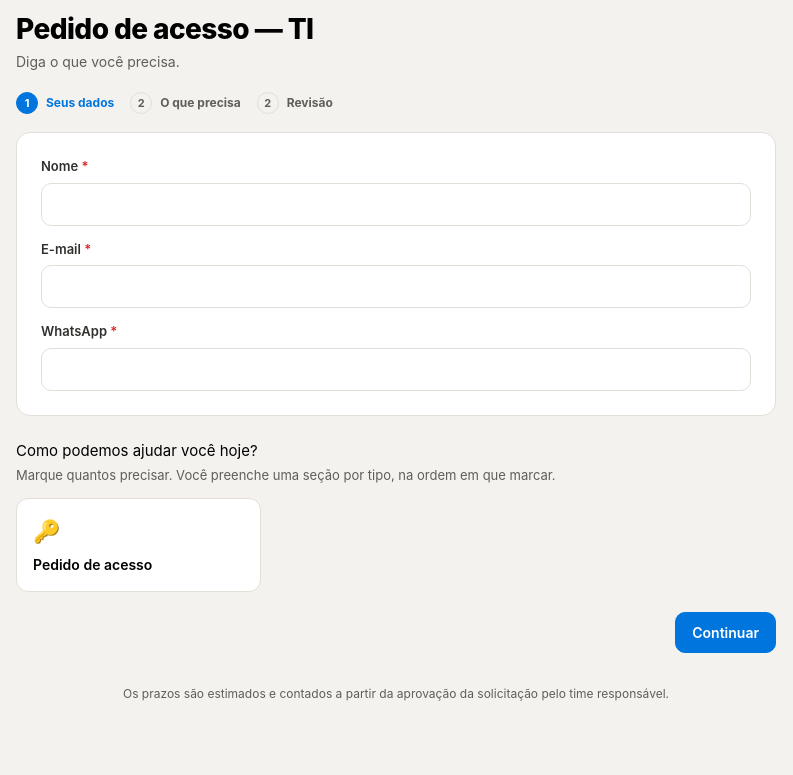
a etapa de identificação, montada de verdade › ⚠️ a mensagem de erro NÃO cobra campo que a tela não desenha
In the field labelled "Nome *": (396, 204) [41,183,751,226], type "Maria"
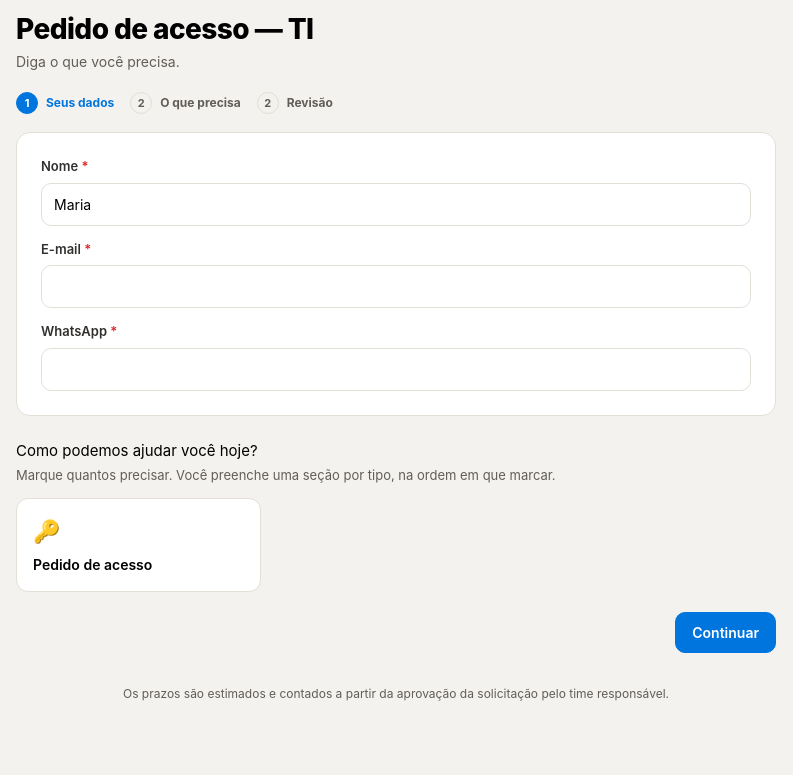
In the field labelled "E-mail *": (396, 287) [41,265,751,308], type "maria@polo.ex"
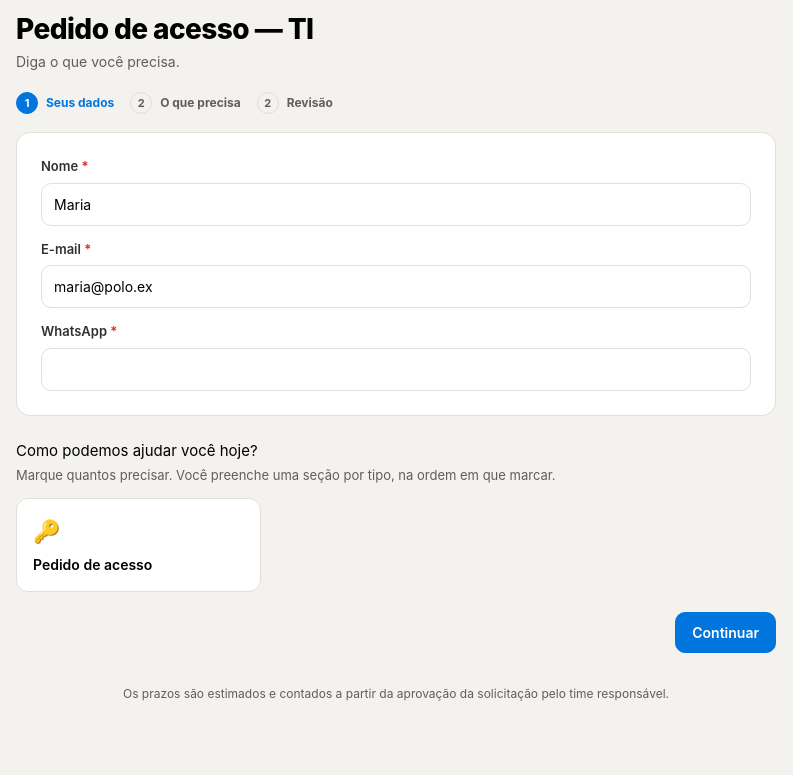
Click the text "Pedido de acesso": (93, 564) [33,554,152,575]
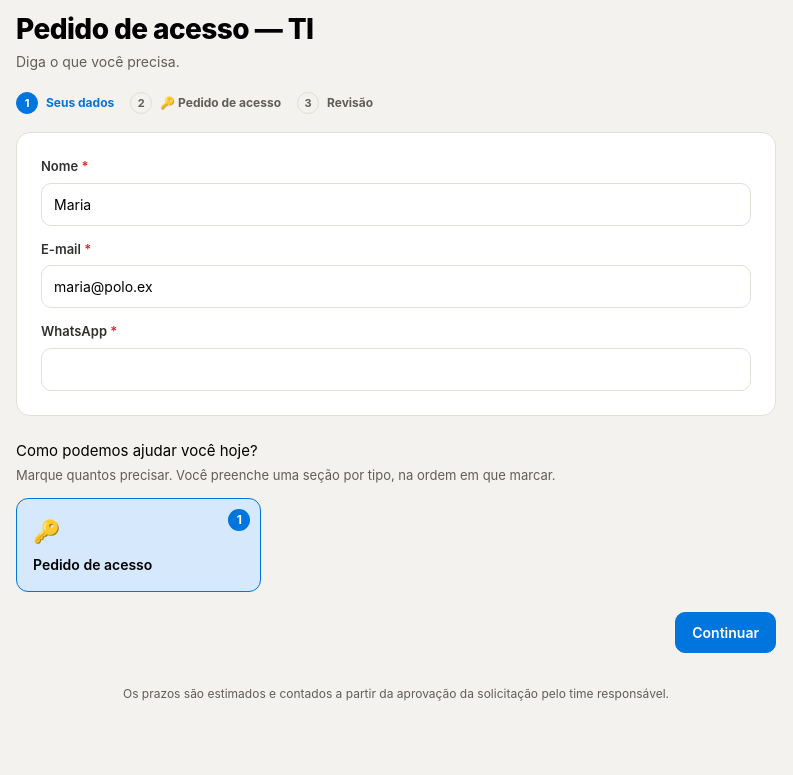
Click the button "Continuar": (726, 632) [675,612,776,653]
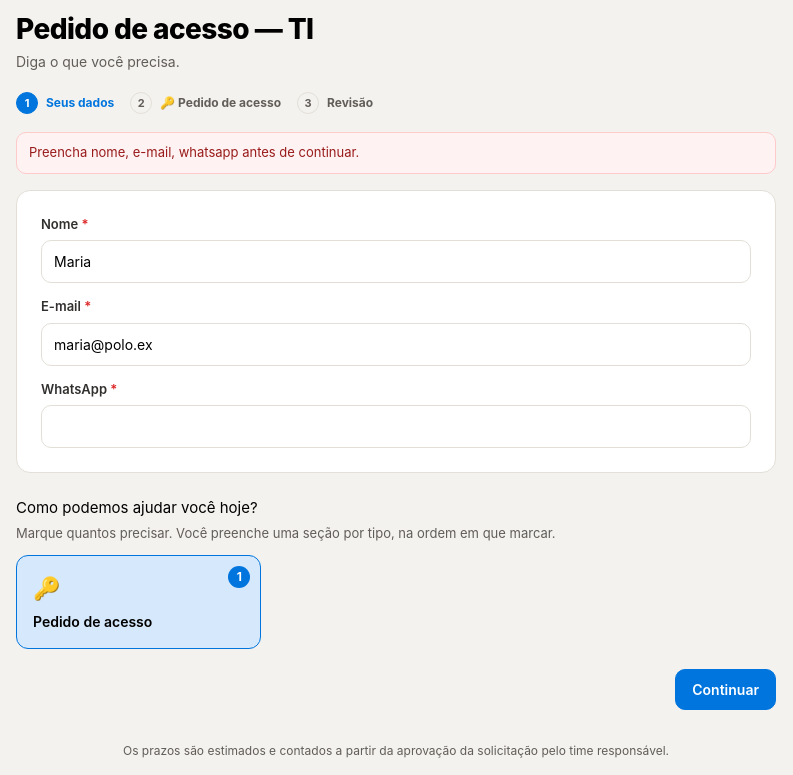
Expected: the message does not show "polo"
Expected: the message shows "whatsapp", [29,144,359,160]
